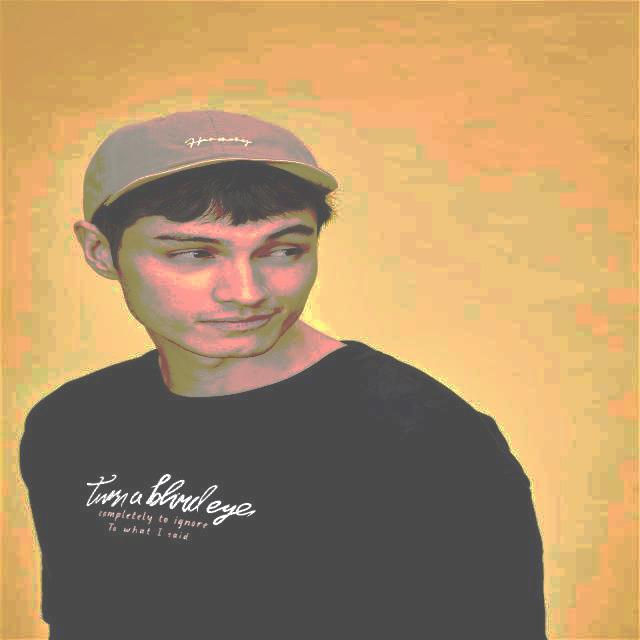TOPI: (86, 109, 339, 226)
